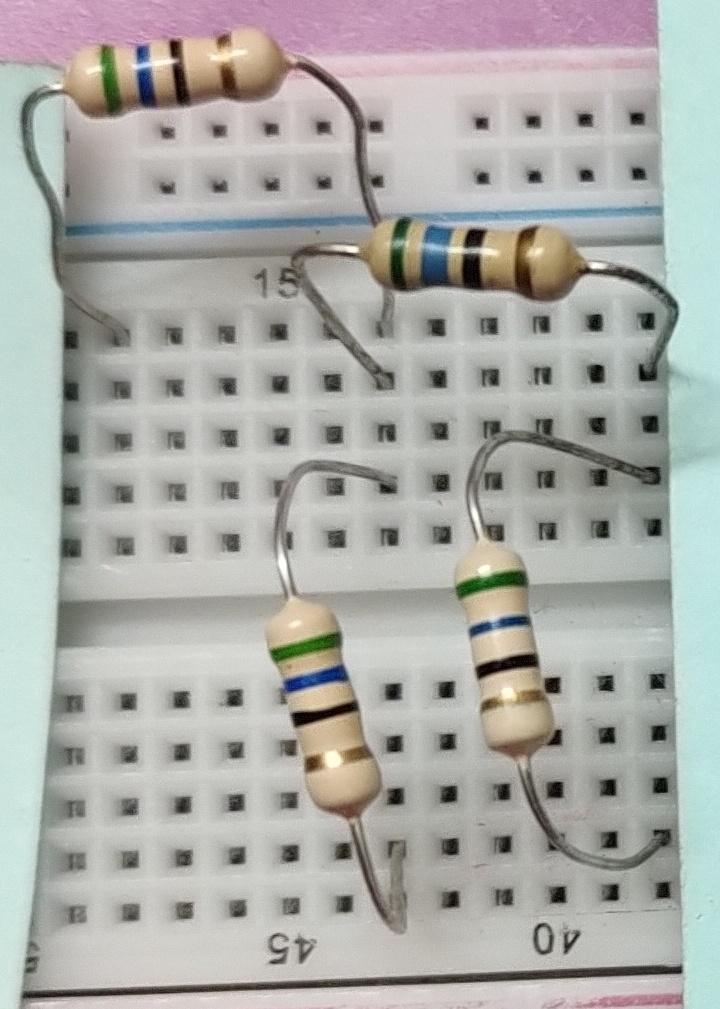resistor: (257, 597, 406, 825), (365, 191, 598, 315), (51, 15, 294, 126), (451, 517, 558, 762)
